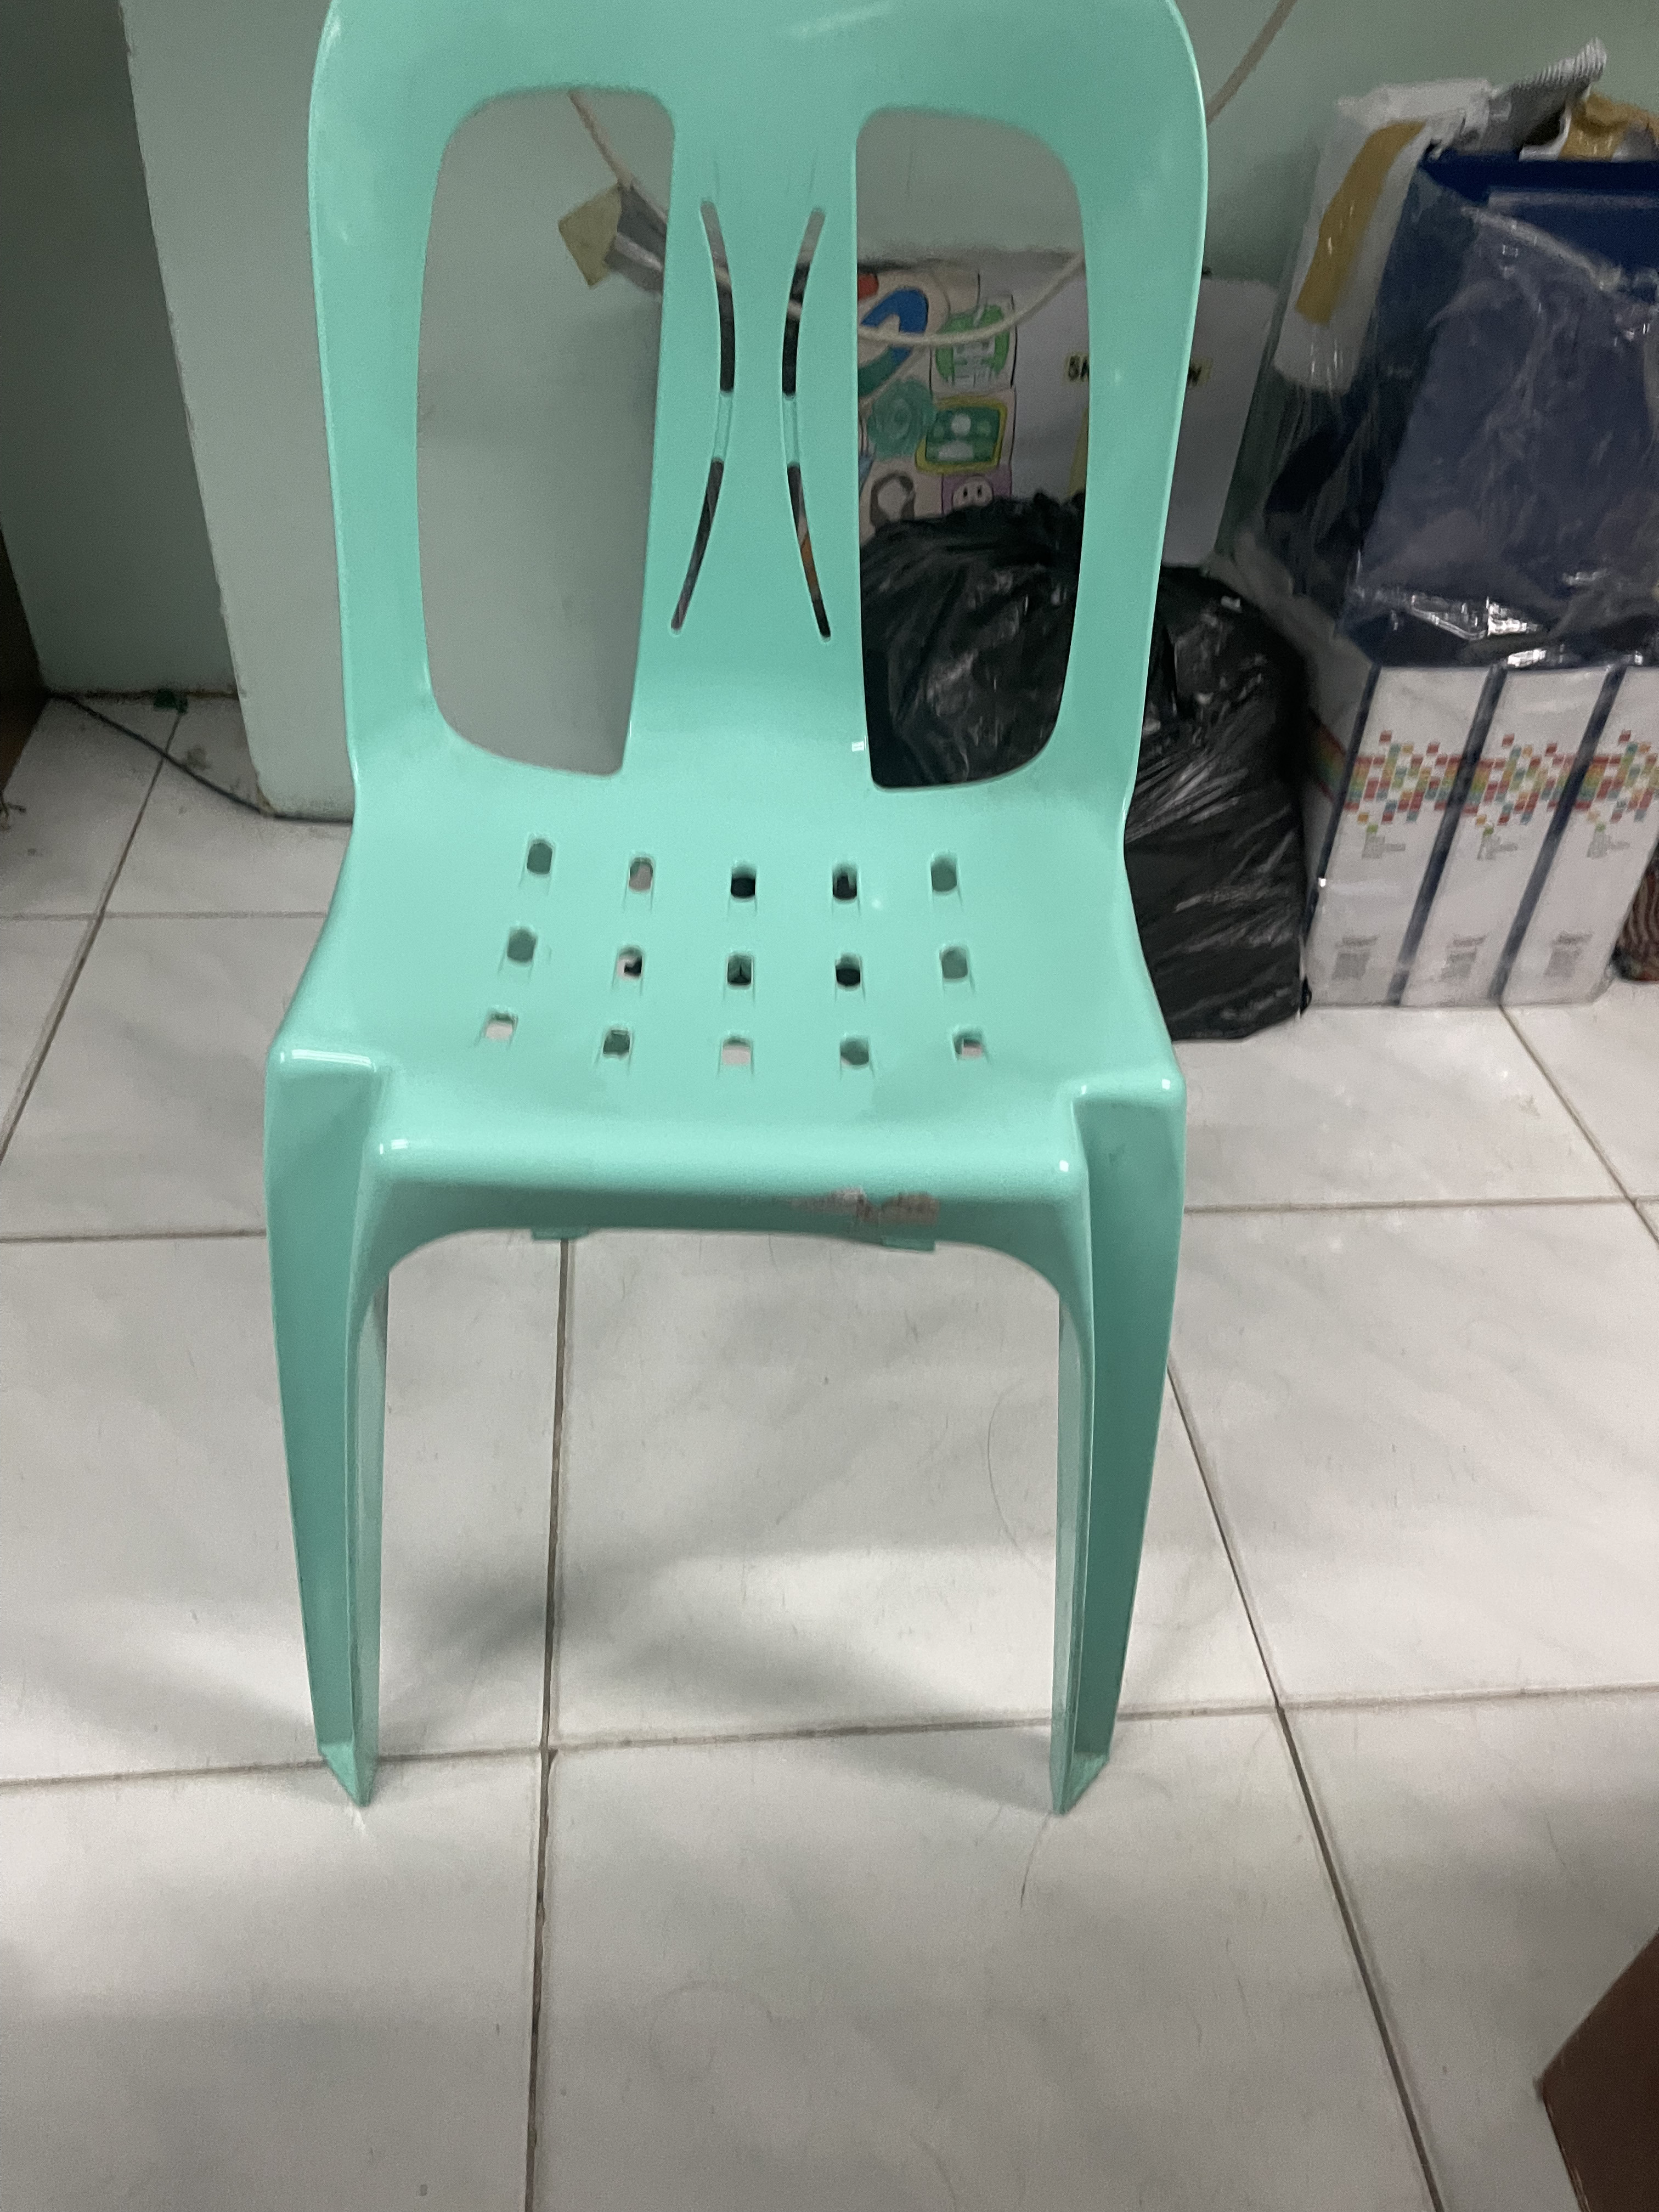chair2: (249, 3, 1225, 1865)
